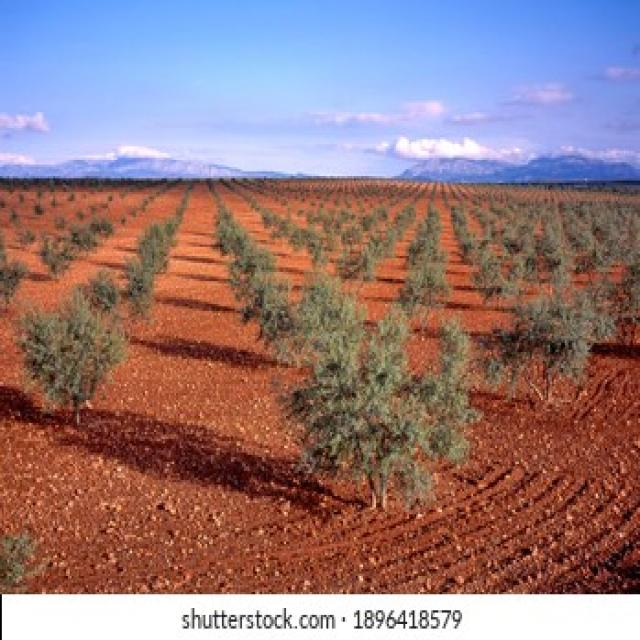Red Soil: (170, 309, 272, 576), (502, 406, 622, 572), (17, 448, 130, 563)
